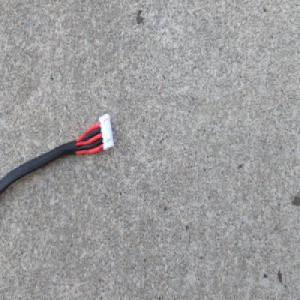Wire: (0, 110, 116, 200)
